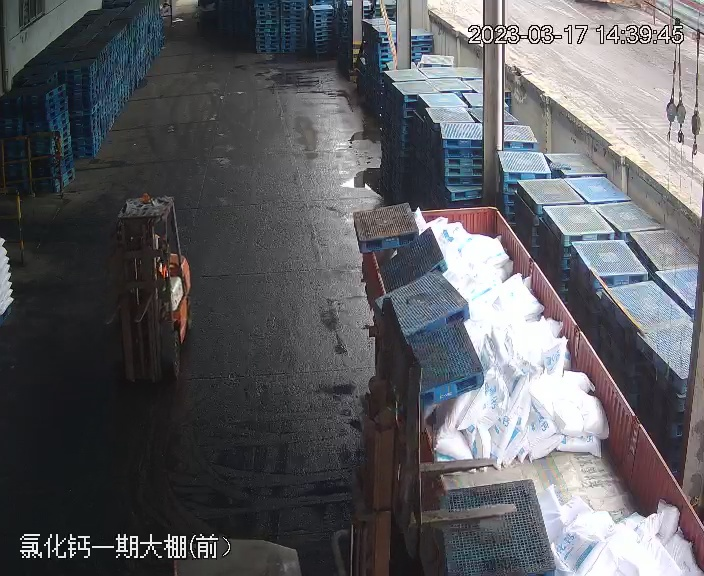truck: (342, 198, 700, 576)
